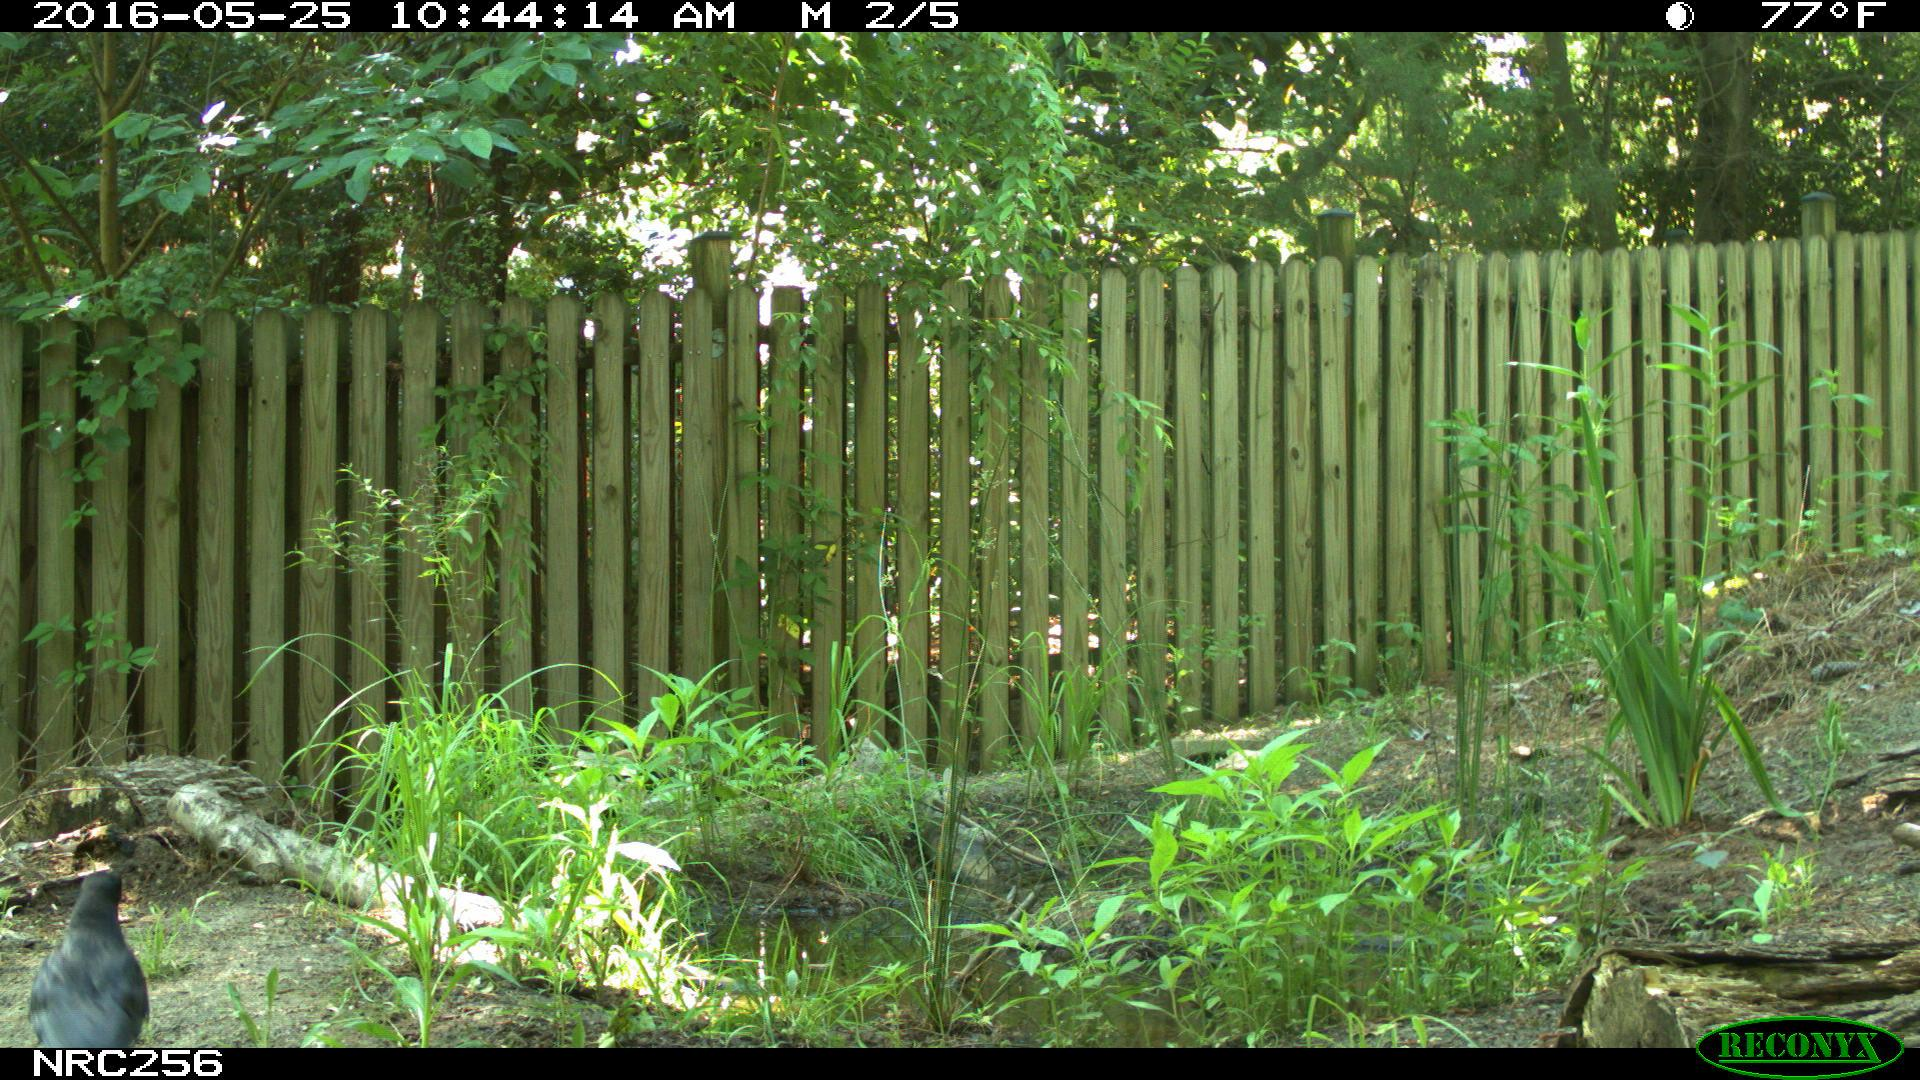Animal: (28, 869, 152, 1052)
